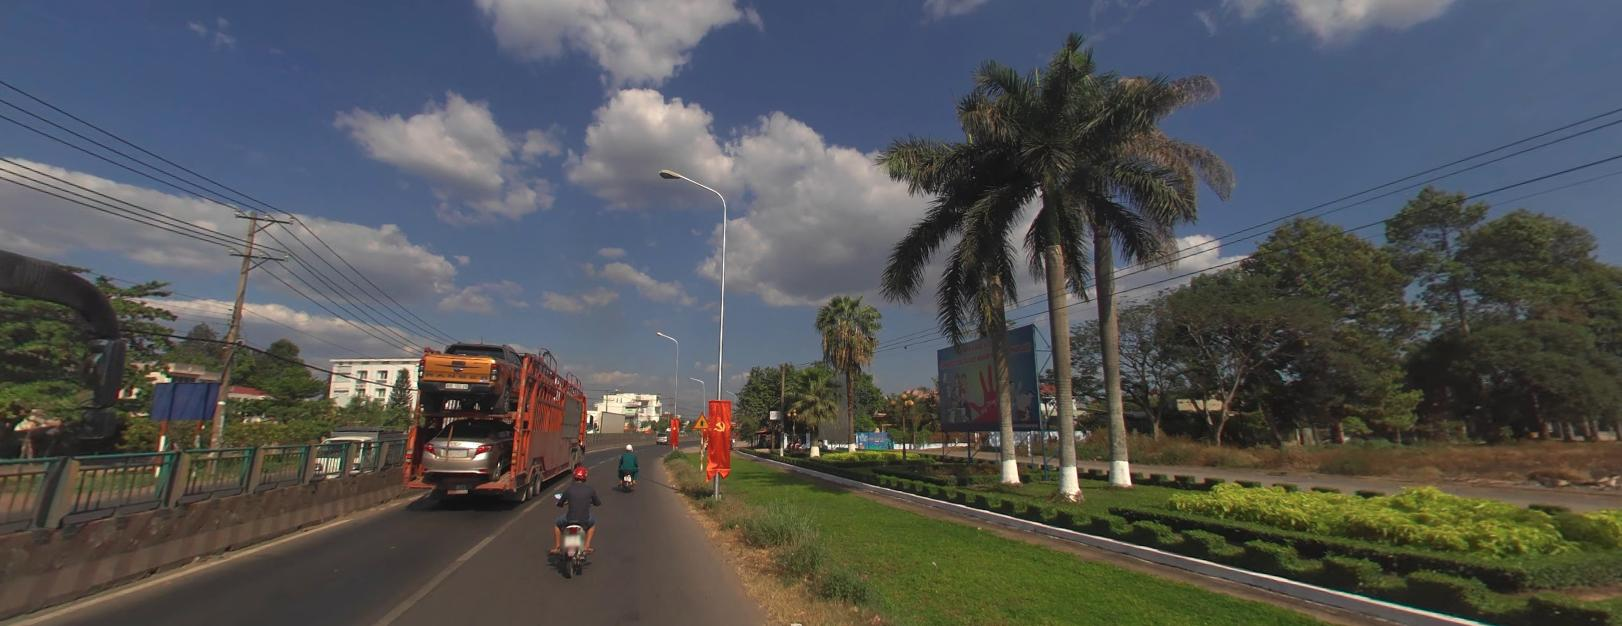Nguy hiem: (692, 411, 709, 426)
